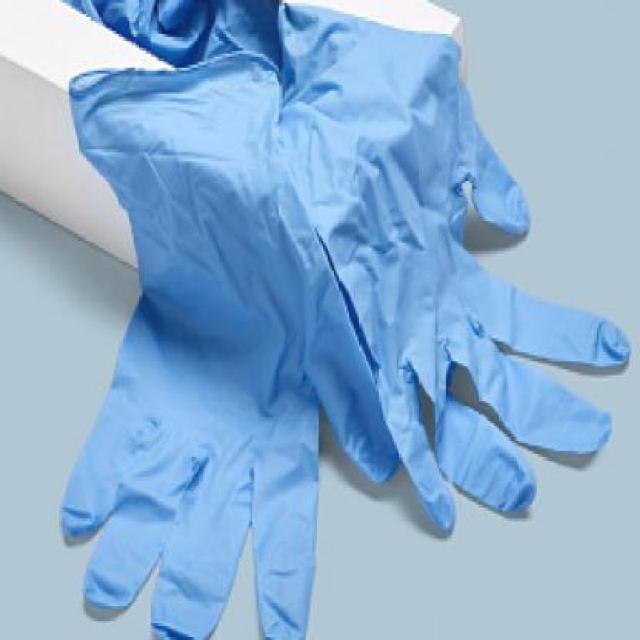glove: (56, 11, 633, 634)
